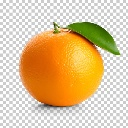orange: (17, 21, 115, 108)
